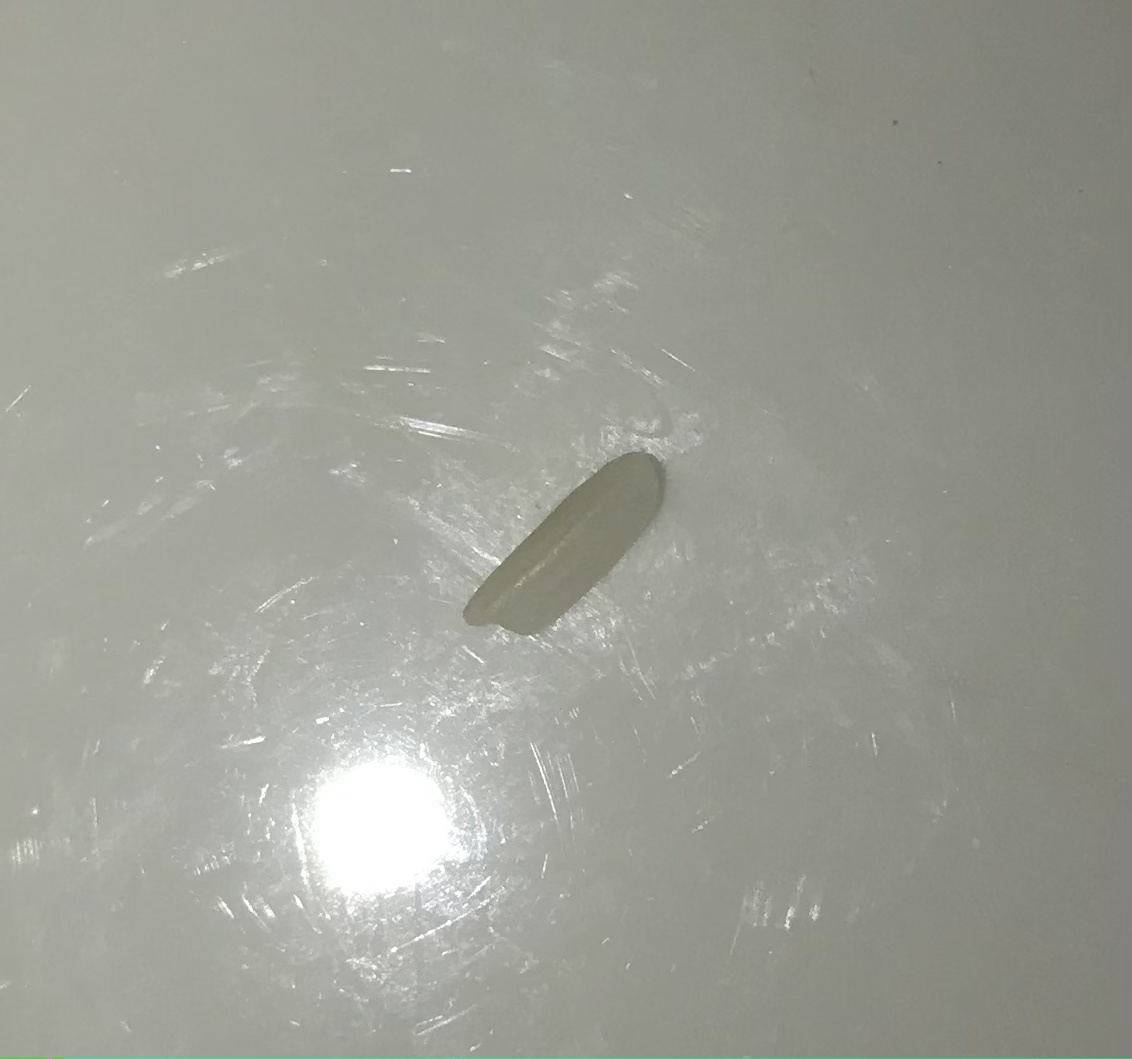Gao Lai Sua: (456, 444, 673, 655)
